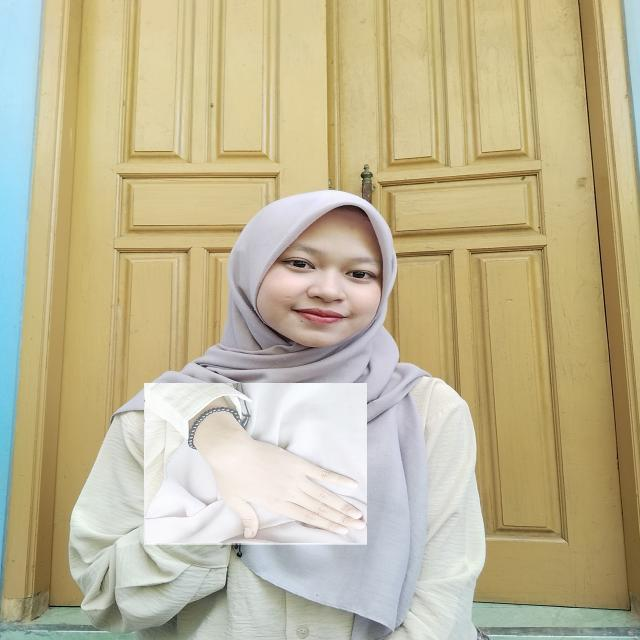tolong: (144, 384, 367, 546)
